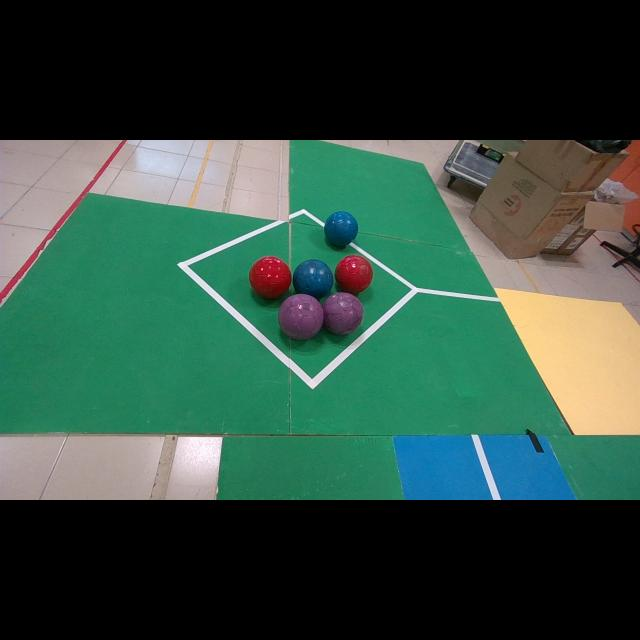B: (292, 259, 334, 299), (324, 211, 359, 246)
P: (279, 294, 320, 339), (322, 292, 364, 335)
R: (249, 256, 291, 299), (335, 255, 374, 294)
